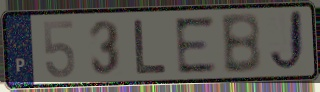3: (86, 18, 122, 77)
5: (41, 18, 77, 80)
B: (218, 11, 264, 76)
E: (172, 14, 219, 76)
J: (267, 8, 308, 76)
L: (133, 18, 169, 76)
